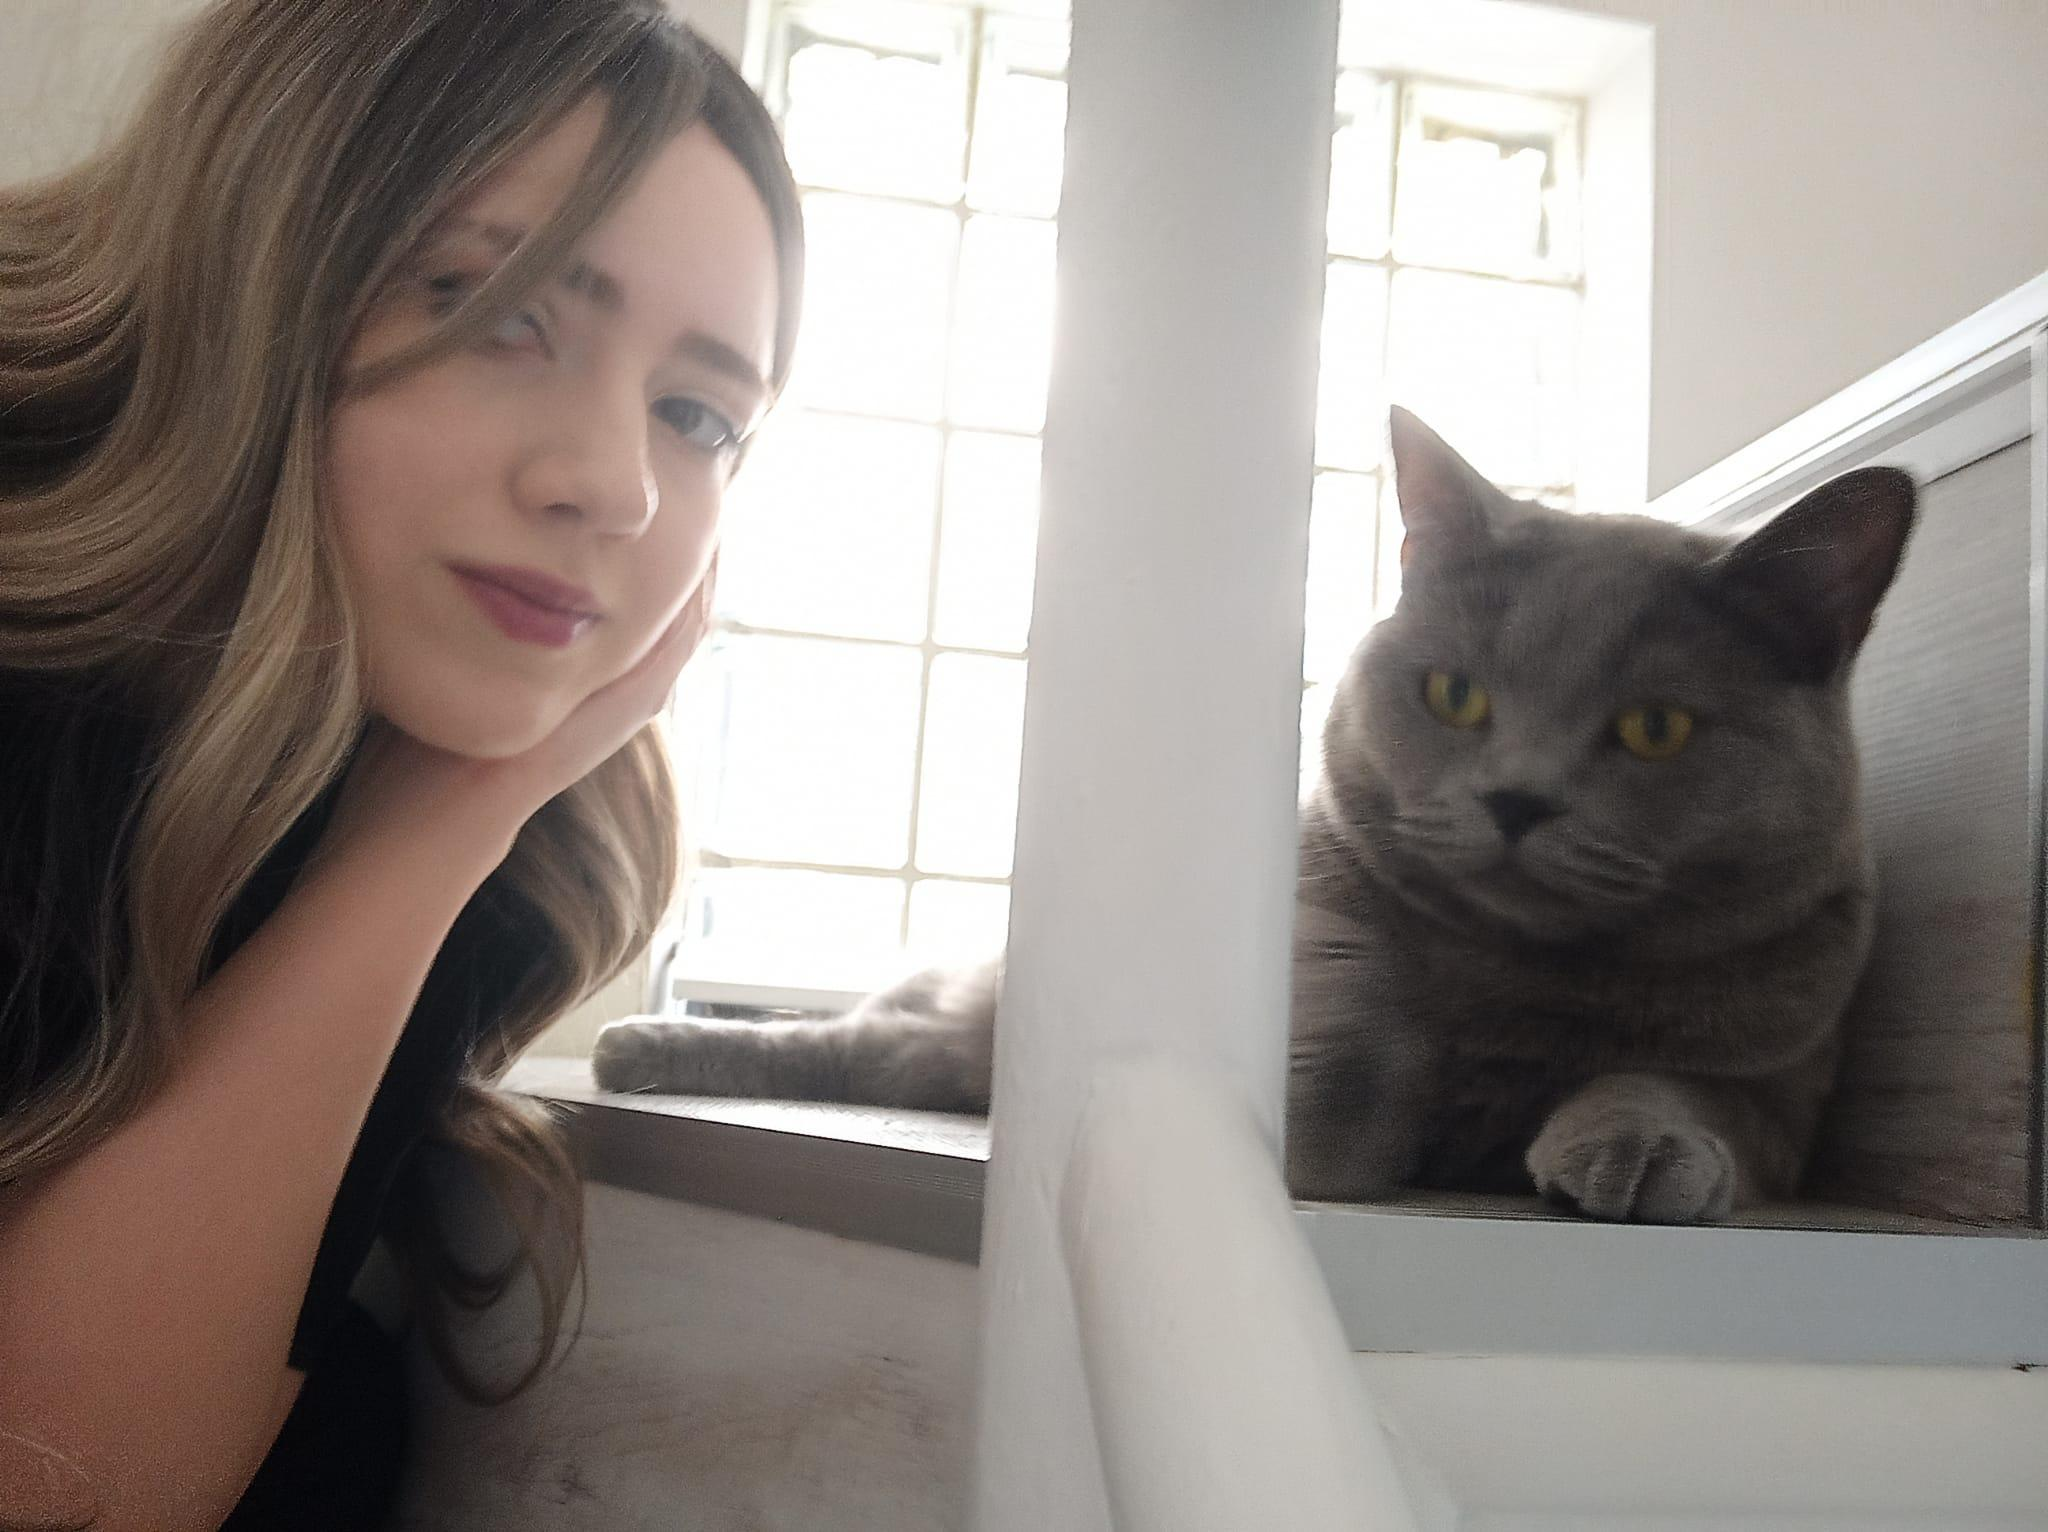kedo: (1316, 407, 1924, 1220)
